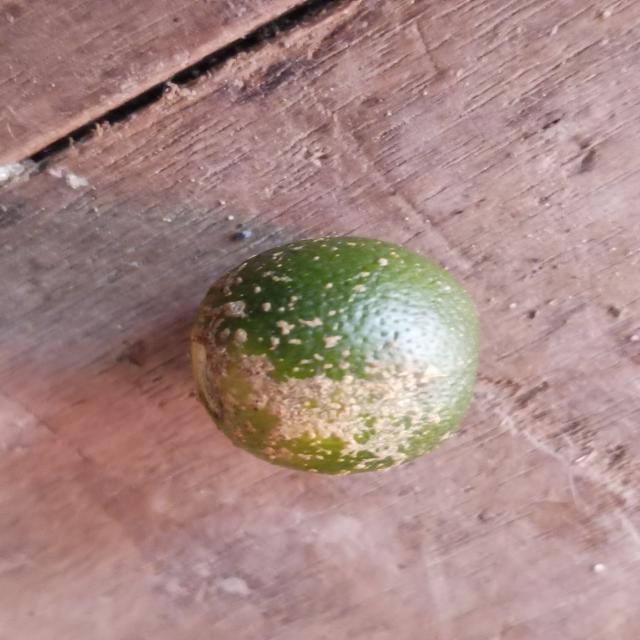scab: (180, 228, 498, 485)
